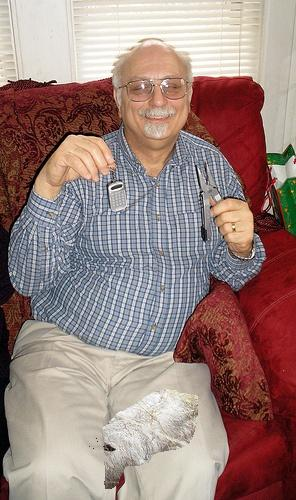tampered: (90, 390, 198, 489)
